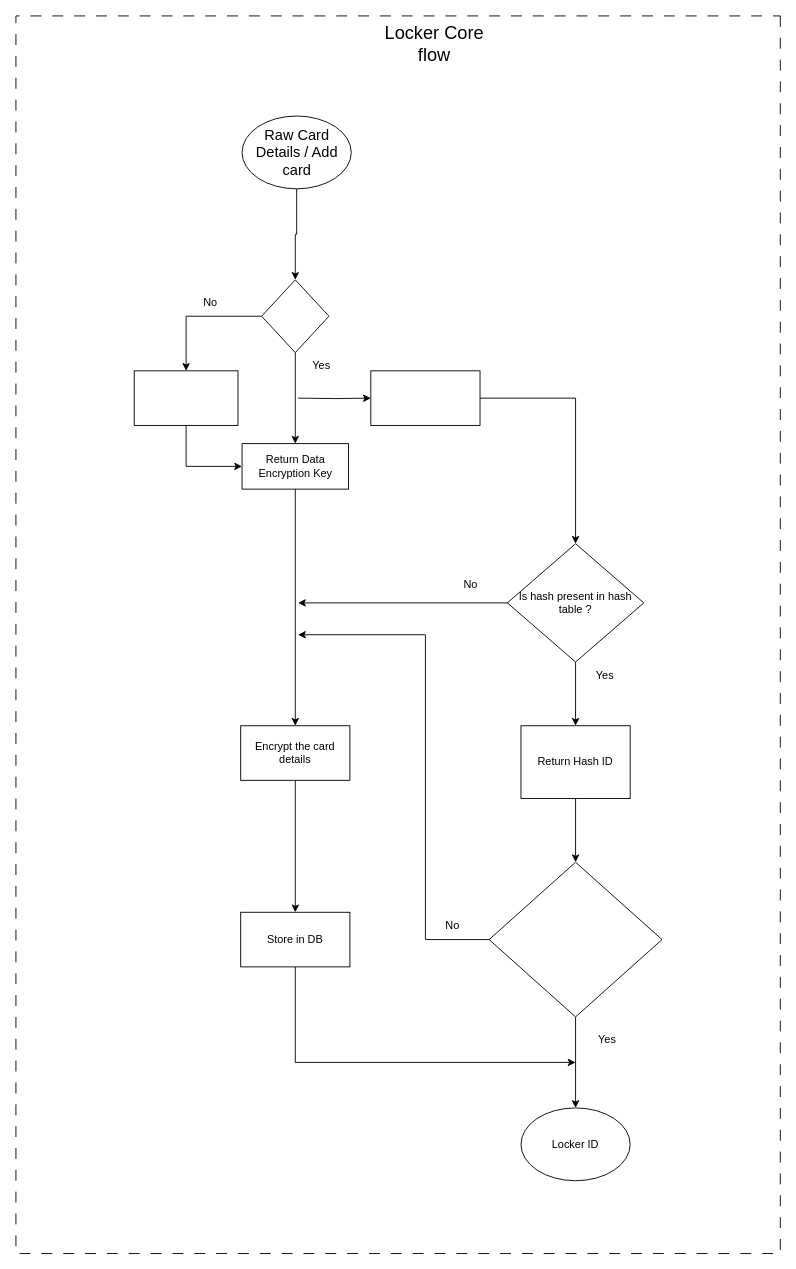
Some shapes in this 796 by 1269 pixel diagram are drawn without their labels. The shapes that lost their labels are listed below. From the top down, each one's centre as x and y in pixels, then its label:
[295,316]: Does merchant exists ?
[185,397]: Create merchant and Data Encryption Key
[425,397]: SHA256 hash Raw Card Details
[575,939]: Is Hash ID, Merchant ID and Merchant Customer ID present in Locker Table?
